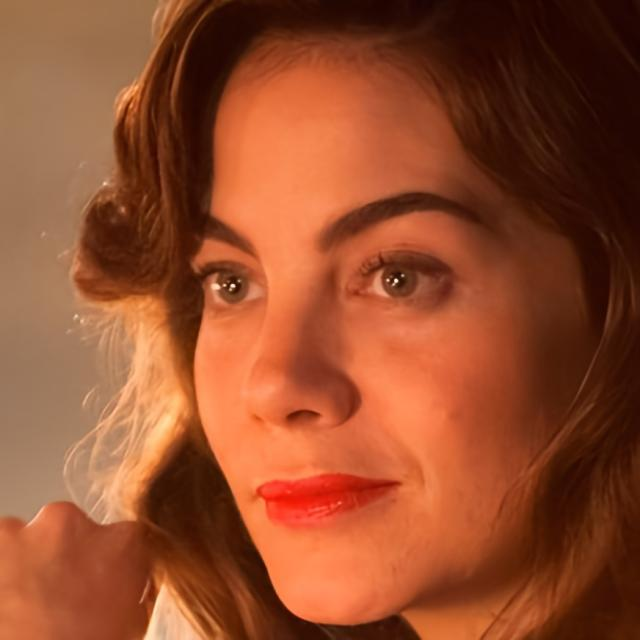content: (181, 15, 610, 630)
